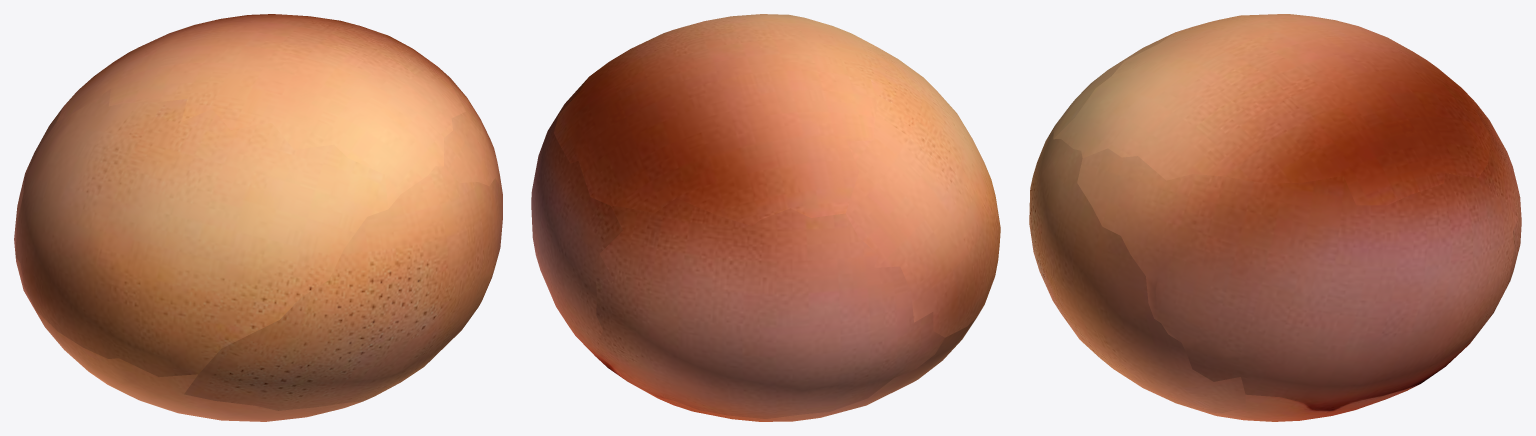
The model's file is egg.glb.
3 renders of one model, left to right at view 1: azimuth 30°, elevation 25°; view 2: azimuth 150°, elevation 25°; view 3: azimuth 270°, elevation 25°, orthographic. The views are drawn at different scales.
Parts seen in each view (by area): view 1: egg_s42; view 2: egg_s42; view 3: egg_s42.
Part boxes in pixels (x1,y1,x2,y2): egg_s42: (14,14,502,421); egg_s42: (531,14,1000,421); egg_s42: (1029,14,1521,421).
Size of the model in its own units: 0.9998 by 0.8082 by 1.
Materials: 1 (1 with a texture image).
